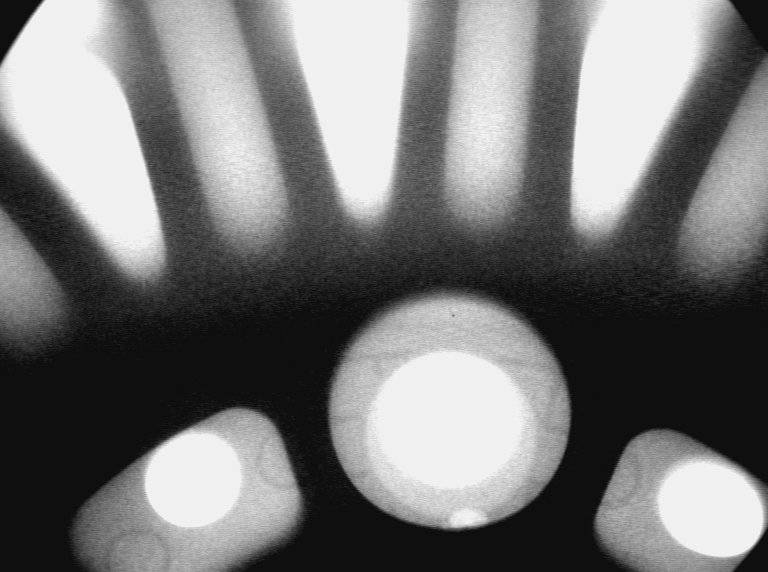defect: (449, 506, 493, 533)
